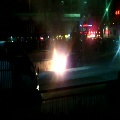fire: (51, 47, 66, 73)
